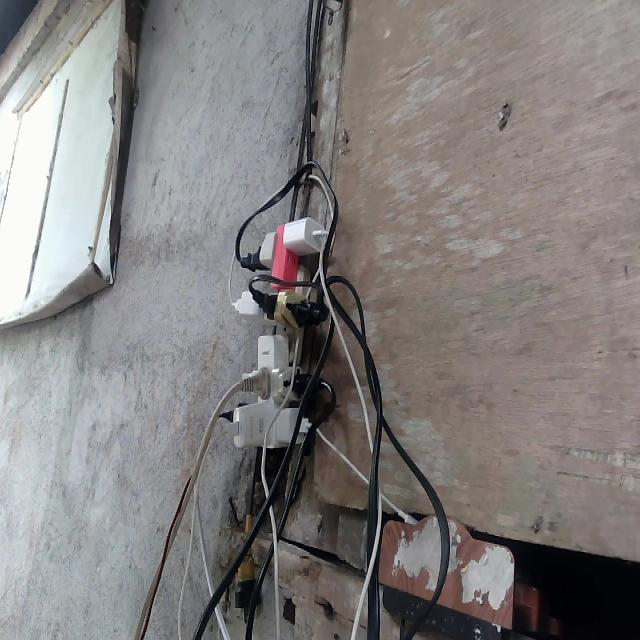-: (216, 212, 334, 448)
